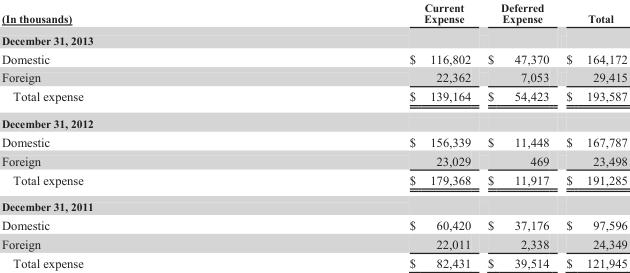table: (0, 0, 626, 269)
table column: (0, 0, 245, 269), (245, 0, 478, 269), (478, 0, 557, 269), (557, 0, 626, 269)
table column header: (0, 0, 626, 29)
table projected row header: (0, 110, 626, 132), (0, 193, 626, 215), (0, 29, 626, 48)
table row: (0, 0, 626, 29), (0, 86, 626, 110), (0, 170, 626, 193), (0, 110, 626, 132), (0, 193, 626, 215), (0, 29, 626, 48), (0, 48, 626, 67), (0, 67, 626, 86), (0, 132, 626, 151), (0, 151, 626, 170), (0, 215, 626, 234), (0, 234, 626, 253), (0, 253, 626, 269)
